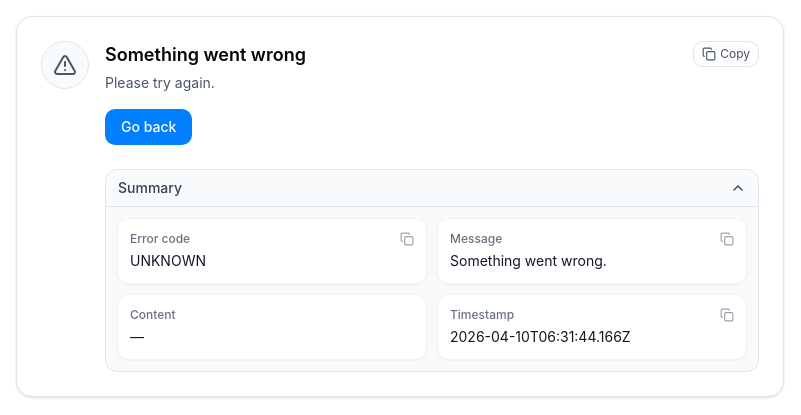
Test case: ErrorState Component › ErrorState_WhenSummaryToggleClicked_CollapsesSummary
This screenshot has width=801, height=415.
Expected: the element with test id "error-state-summary-container" is shown, [106, 206, 758, 371]
Click the button with test id "error-state-summary-toggle". click: [150, 188]
box: [106, 170, 758, 206]
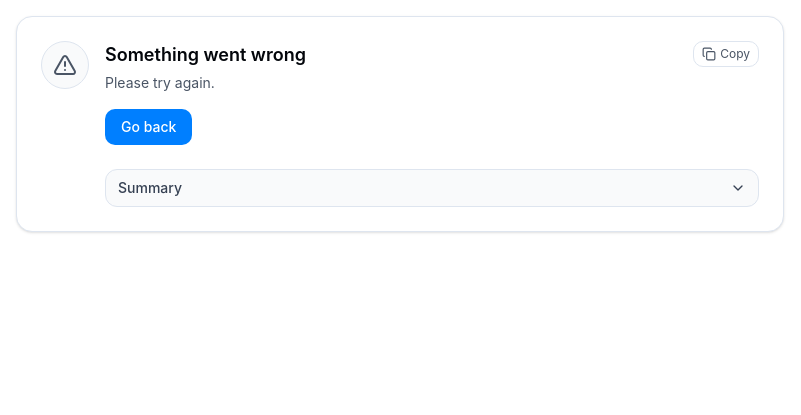
Expected: the element with test id "error-state-summary-container" is gone
